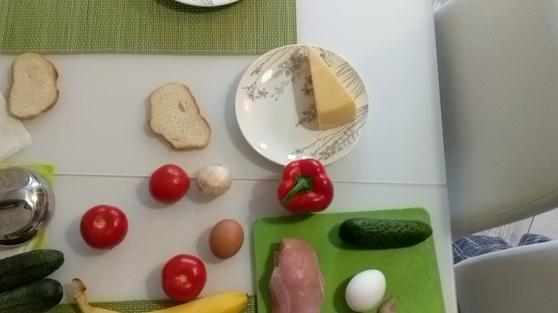banana: (150, 292, 250, 313)
champignon: (201, 158, 235, 200)
cheese: (311, 47, 357, 132)
chicken_fillet: (269, 237, 326, 313)
cucumber: (339, 216, 433, 249), (2, 244, 66, 280), (3, 282, 65, 313)
egg: (347, 267, 387, 313), (212, 219, 244, 258)
pepper: (281, 156, 336, 213)
tomato: (163, 250, 211, 306), (75, 203, 132, 246), (148, 162, 192, 200)
white_bread: (145, 82, 211, 150), (8, 52, 59, 122)
